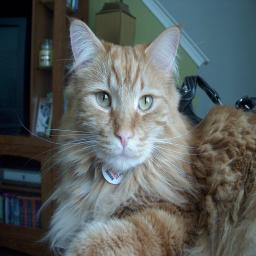catnose: (114, 128, 134, 150)
